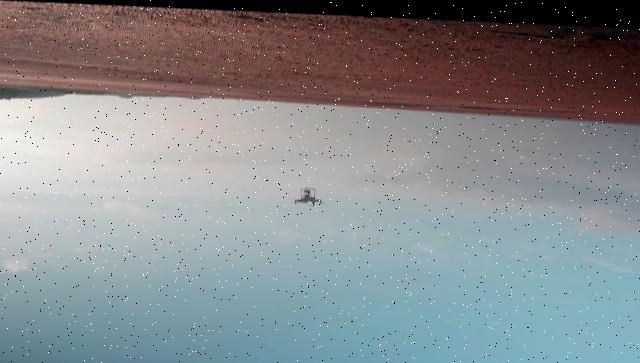drone: (291, 181, 325, 204)
